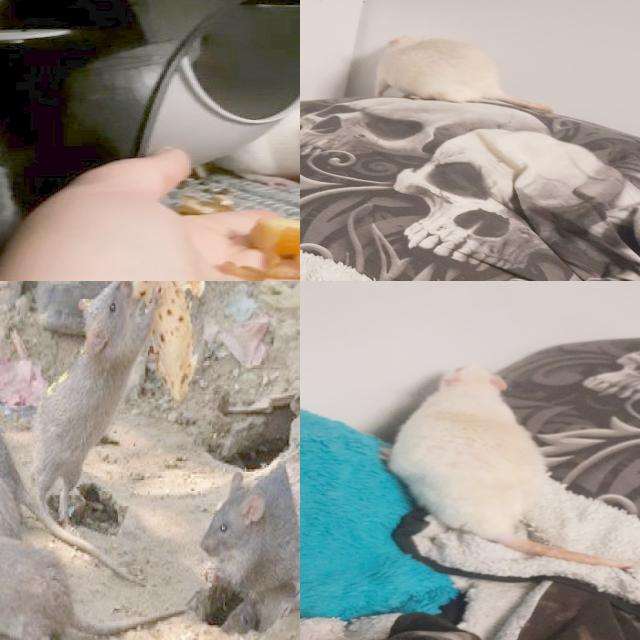rat: (23, 281, 171, 532), (384, 365, 547, 535), (195, 445, 300, 622), (0, 514, 77, 640), (367, 34, 501, 106), (207, 98, 300, 187), (0, 443, 33, 556)
